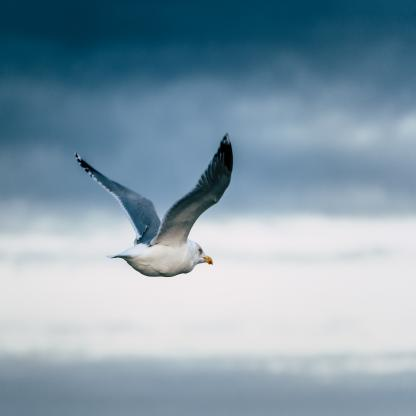bird: (76, 134, 233, 278)
